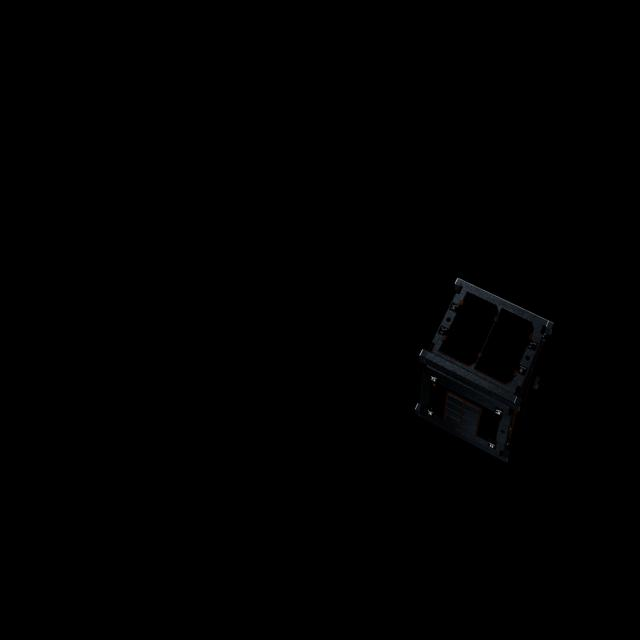medium_debris: (410, 278, 568, 469)
